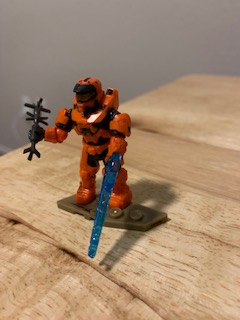spartan: (26, 77, 135, 209)
